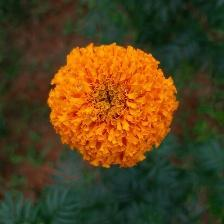marigold: (49, 43, 180, 171)
